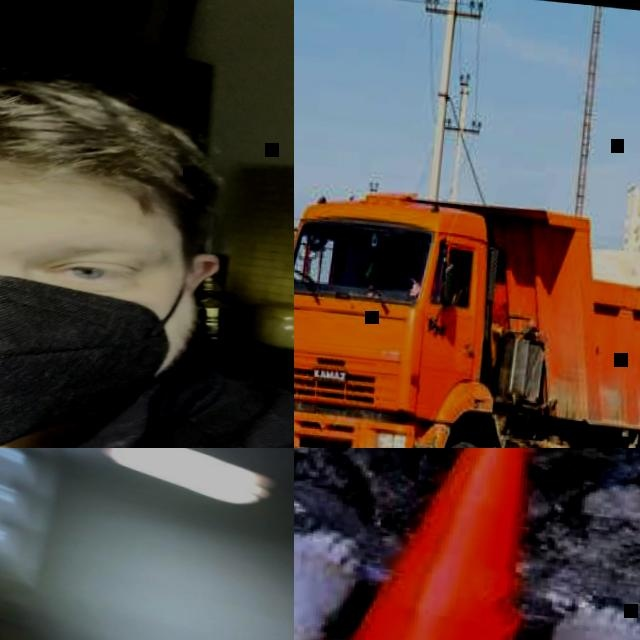Mask: (0, 231, 197, 448)
NO-Hardhat: (0, 37, 219, 233)
NO-Safety Vest: (0, 325, 294, 448)
Person: (0, 38, 294, 448), (410, 250, 448, 302)
Safety Cone: (327, 448, 598, 640)
machinery: (294, 166, 640, 448)
